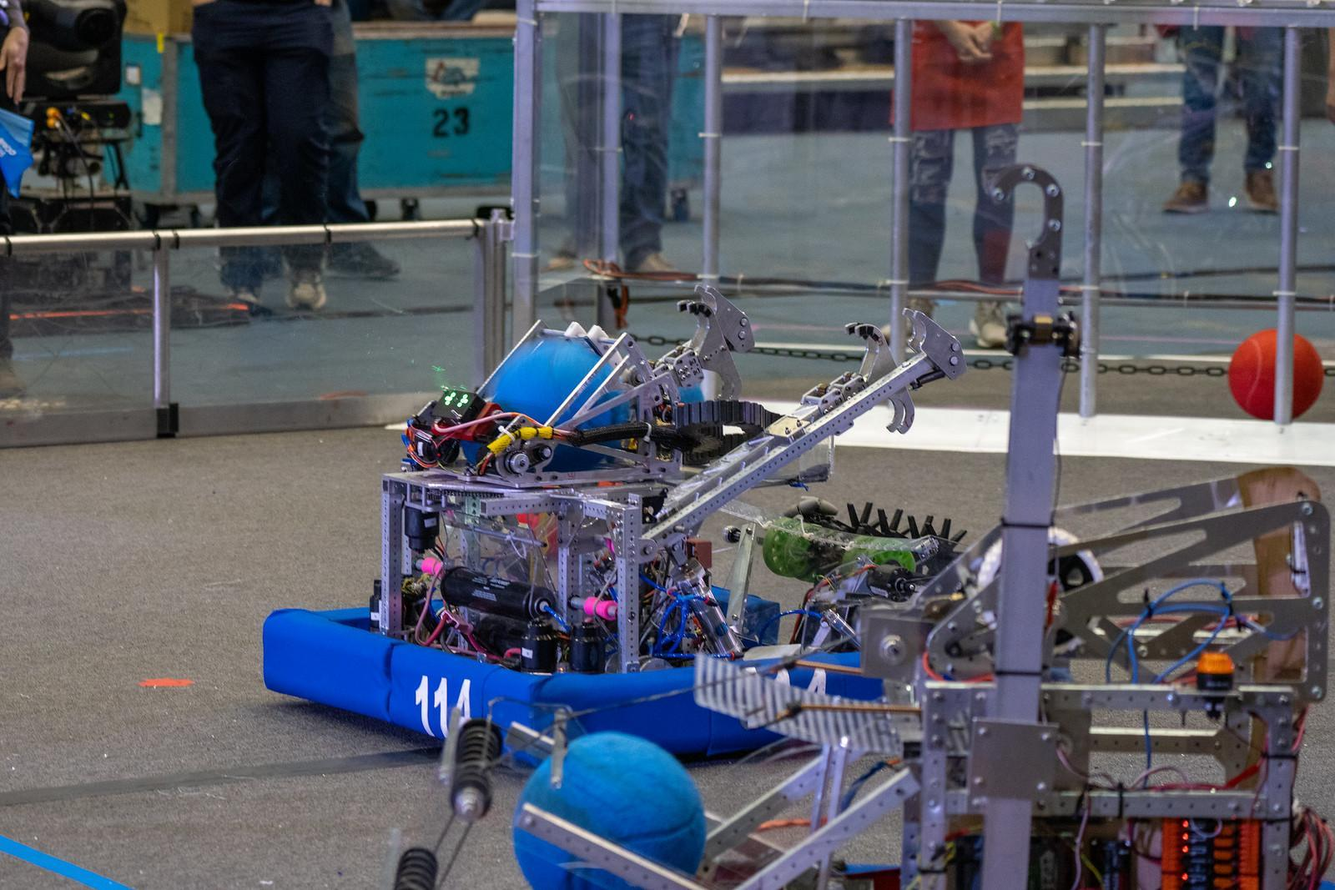robot: (355, 154, 1335, 890), (257, 278, 982, 769)
